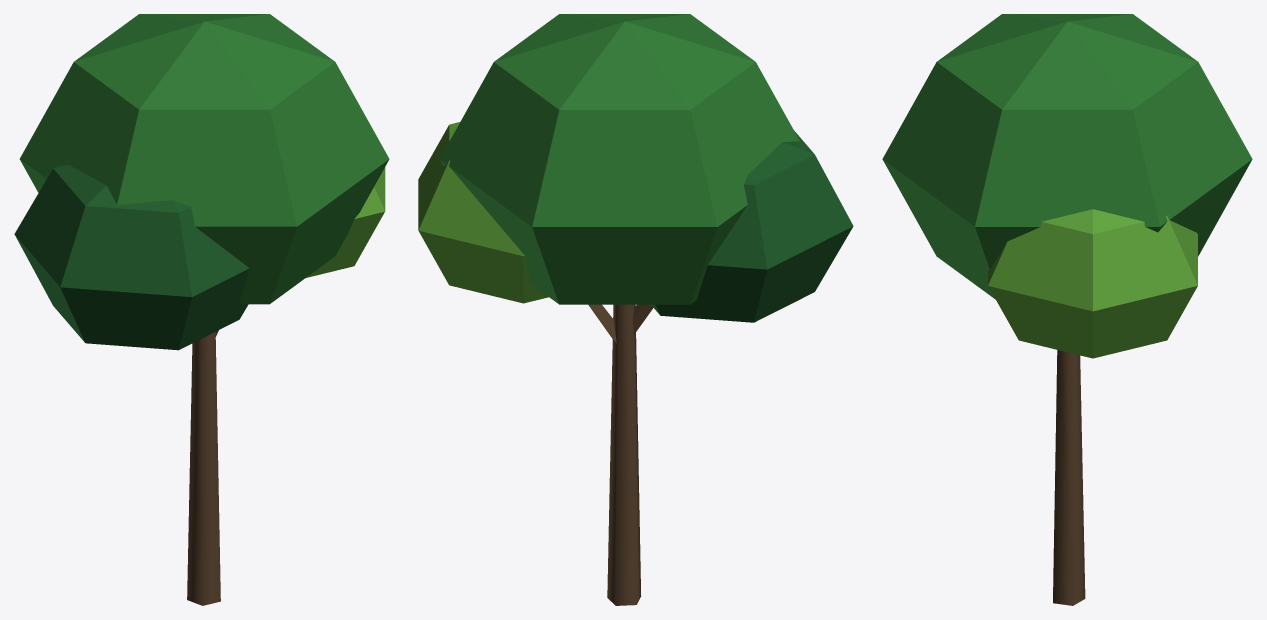
The model's file is pohon_kecil.glb.
3 renders of one model, left to right at view 1: azimuth 30°, elevation 25°; view 2: azimuth 150°, elevation 25°; view 3: azimuth 270°, elevation 25°, orthographic.
Visible parts, largest first — view 1: body; view 2: body; view 3: body.
Part boxes in pixels (x1=…): body: x1=14, y1=14, x2=389, y2=605; body: x1=418, y1=14, x2=853, y2=605; body: x1=882, y1=14, x2=1252, y2=605.
Bounding box in the file's own units: 3.44 × 4.99 × 2.9.
Materials: 1 (1 with a texture image).
